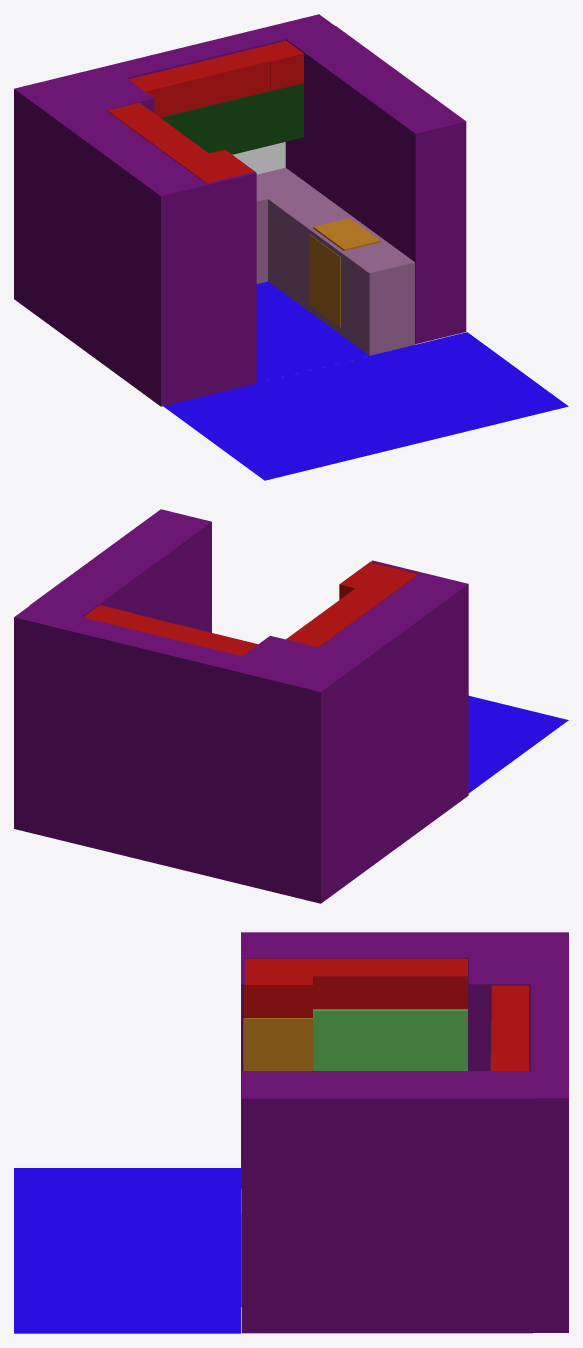
Rendered from cuisine_02.fbx.
3 views of the same model, one above another, from view 1: azimuth 30°, elevation 25°; view 2: azimuth 150°, elevation 25°; view 3: azimuth 270°, elevation 25° (orthographic). The views are drawn at different scales.
Visible parts, largest first — view 1: mur (×3), sol (×2), meuble (×4), Object001, four, plaques, miroir; view 2: mur (×2), meuble (×2), sol; view 3: mur (×3), sol, meuble (×3), frigo.
Part boxes in pixels (x1=…): mur (×3): x1=14, y1=14, x2=466, y2=406; sol (×2): x1=163, y1=281, x2=568, y2=480; meuble (×4): x1=107, y1=41, x2=414, y2=355; Object001: x1=160, y1=90, x2=270, y2=154; four: x1=309, y1=234, x2=340, y2=327; plaques: x1=313, y1=218, x2=380, y2=251; miroir: x1=232, y1=142, x2=285, y2=174; mur (×2): x1=14, y1=509, x2=468, y2=903; meuble (×2): x1=83, y1=562, x2=418, y2=655; sol: x1=468, y1=696, x2=568, y2=792; mur (×3): x1=241, y1=932, x2=568, y2=1333; sol: x1=14, y1=1168, x2=240, y2=1333; meuble (×3): x1=244, y1=958, x2=529, y2=1070; frigo: x1=243, y1=1009, x2=313, y2=1070.
Bounding box in the file's own units: 150 × 99.25 × 211.
